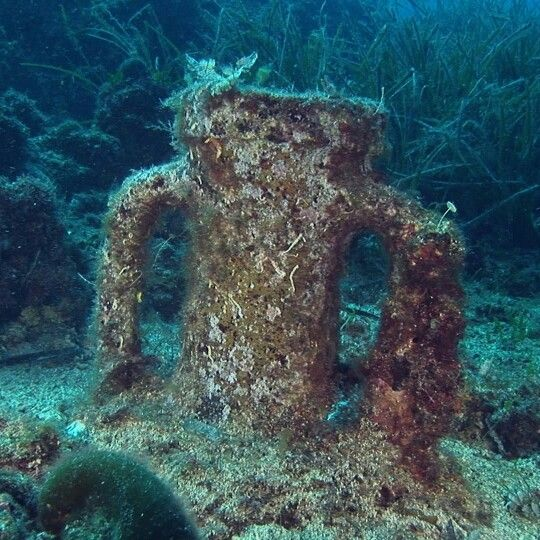amphora: (92, 68, 465, 525)
